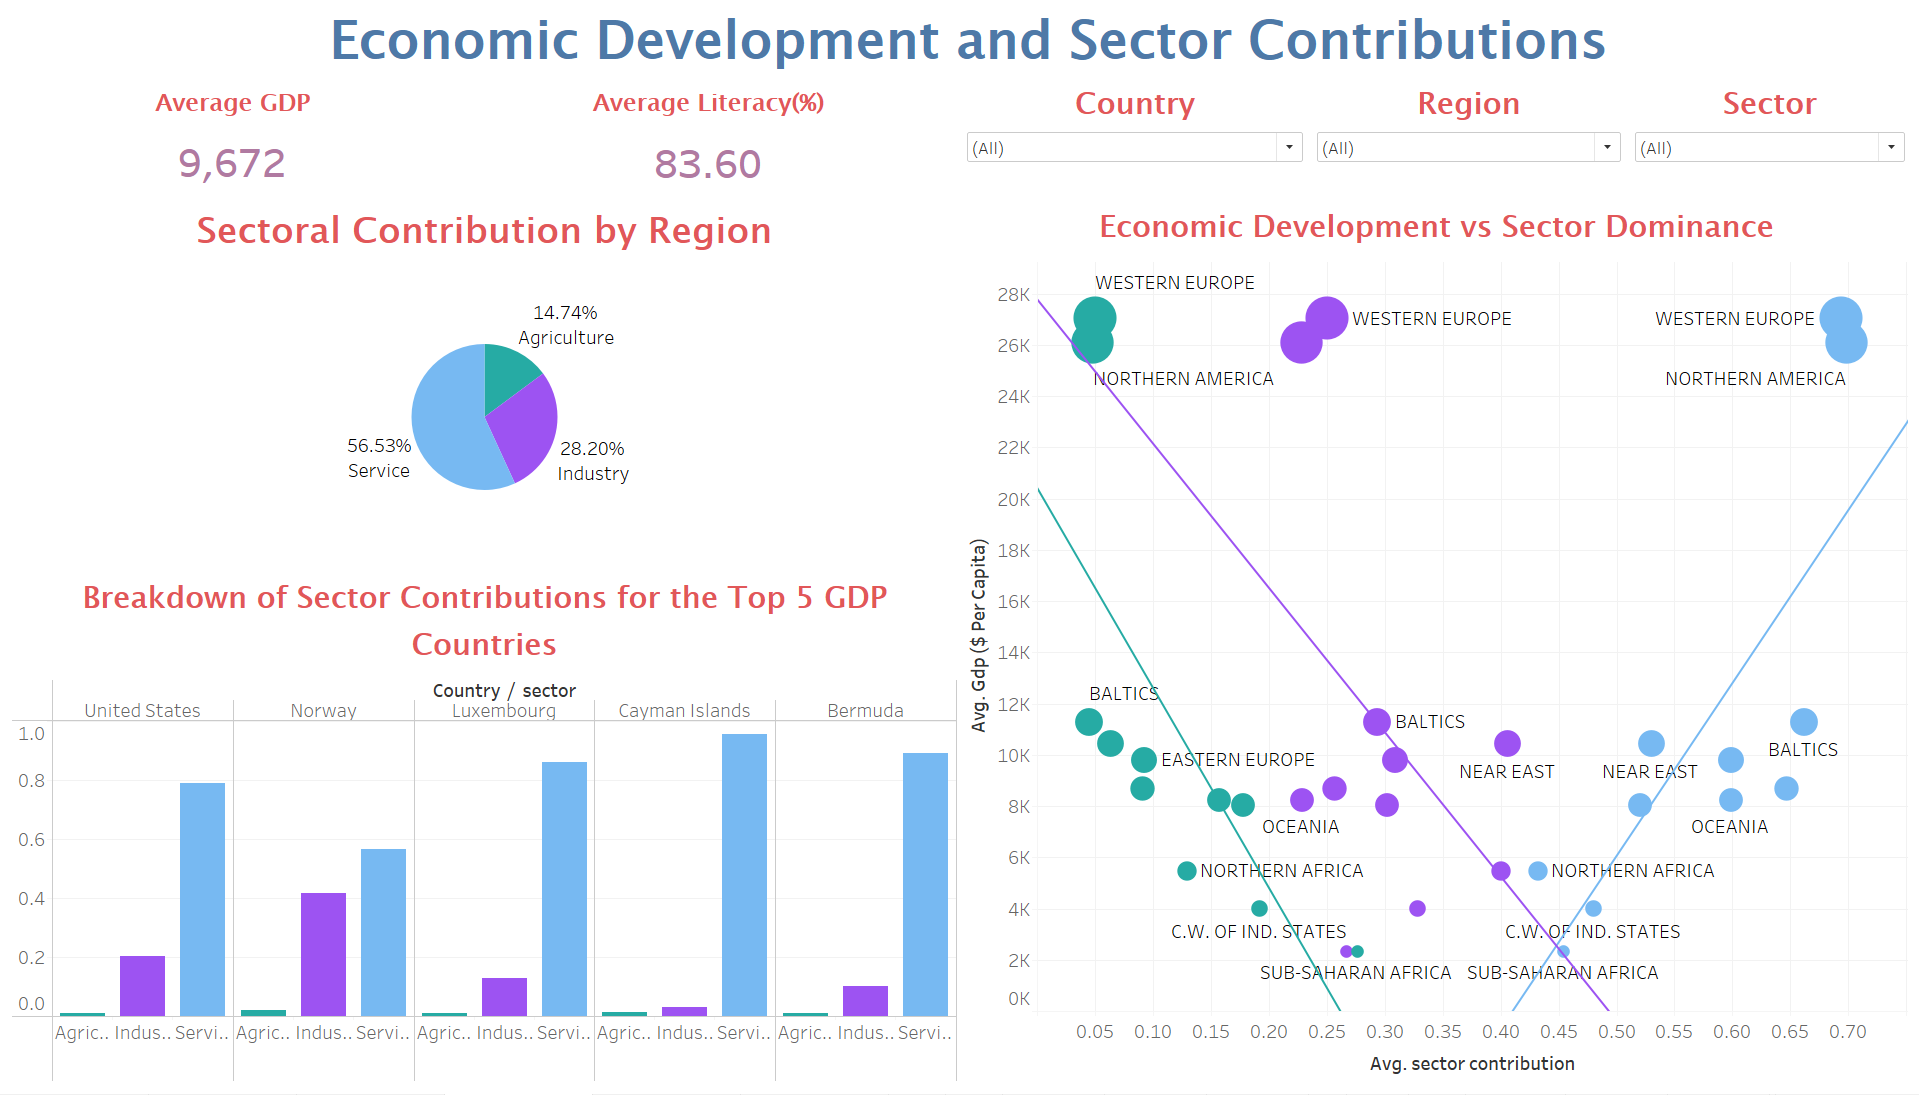

The page's visual inventory and layout, read from the dashboard file:
{"tool":"tableau","page":{"name":"Dashboard 4","canvas":[1000,1000],"units":"permille","ordinal":3},"visuals":[{"type":"text","box":[4.2,9.2,991.5,63.5]},{"type":"worksheet","title":"kpi1","mark":"Text","box":[4.2,72.7,233.9,108.5]},{"type":"worksheet","title":"kpi2","mark":"Text","box":[238.2,72.7,262.1,108.5]},{"type":"filter","title":"Sheet 17","param":"[federated.1c3u9131ed1j9b19gkh9f0900v8d].[none:country:nk]","box":[500.2,72.7,182.3,108.5]},{"type":"filter","title":"Sheet 17","param":"[federated.1c3u9131ed1j9b19gkh9f0900v8d].[none:region:nk]","box":[682.5,72.7,165.3,108.5]},{"type":"filter","title":"Sheet 17","param":"[federated.1c3u9131ed1j9b19gkh9f0900v8d].[none:Pivot Field Names:nk]","box":[847.9,72.7,147.9,108.5]},{"type":"worksheet","title":"Sheet 16","mark":"Pie","box":[4.2,181.2,496,337.2]},{"type":"worksheet","title":"Sheet 17","mark":"Circle","rows":["gdp_($_per_capita)"],"cols":["Pivot Field Values"],"box":[500.3,181.2,495.5,809.5]},{"type":"worksheet","title":"Sheet 18","mark":"Bar","rows":["Pivot Field Values"],"cols":["country","Pivot Field Names"],"box":[4.2,518.4,496,472.3]}]}

Visuals, with their boxes on the dashboard's canvas, which has no fixed pixel size, in thousandths of its width and height (x1, y1, x2, y2). These are canvas units, not pixel positions in the 1919x1095 screenshot, which may show the page scaled, cropped or inside an application window:
text: [4,9,996,73]
"kpi1" worksheet (Text marks): [4,73,238,181]
"kpi2" worksheet (Text marks): [238,73,500,181]
"Sheet 17" filter: [500,73,682,181]
"Sheet 17" filter: [682,73,848,181]
"Sheet 17" filter: [848,73,996,181]
"Sheet 16" worksheet (Pie marks): [4,181,500,518]
"Sheet 17" worksheet (Circle marks): [500,181,996,991]
"Sheet 18" worksheet (Bar marks): [4,518,500,991]
